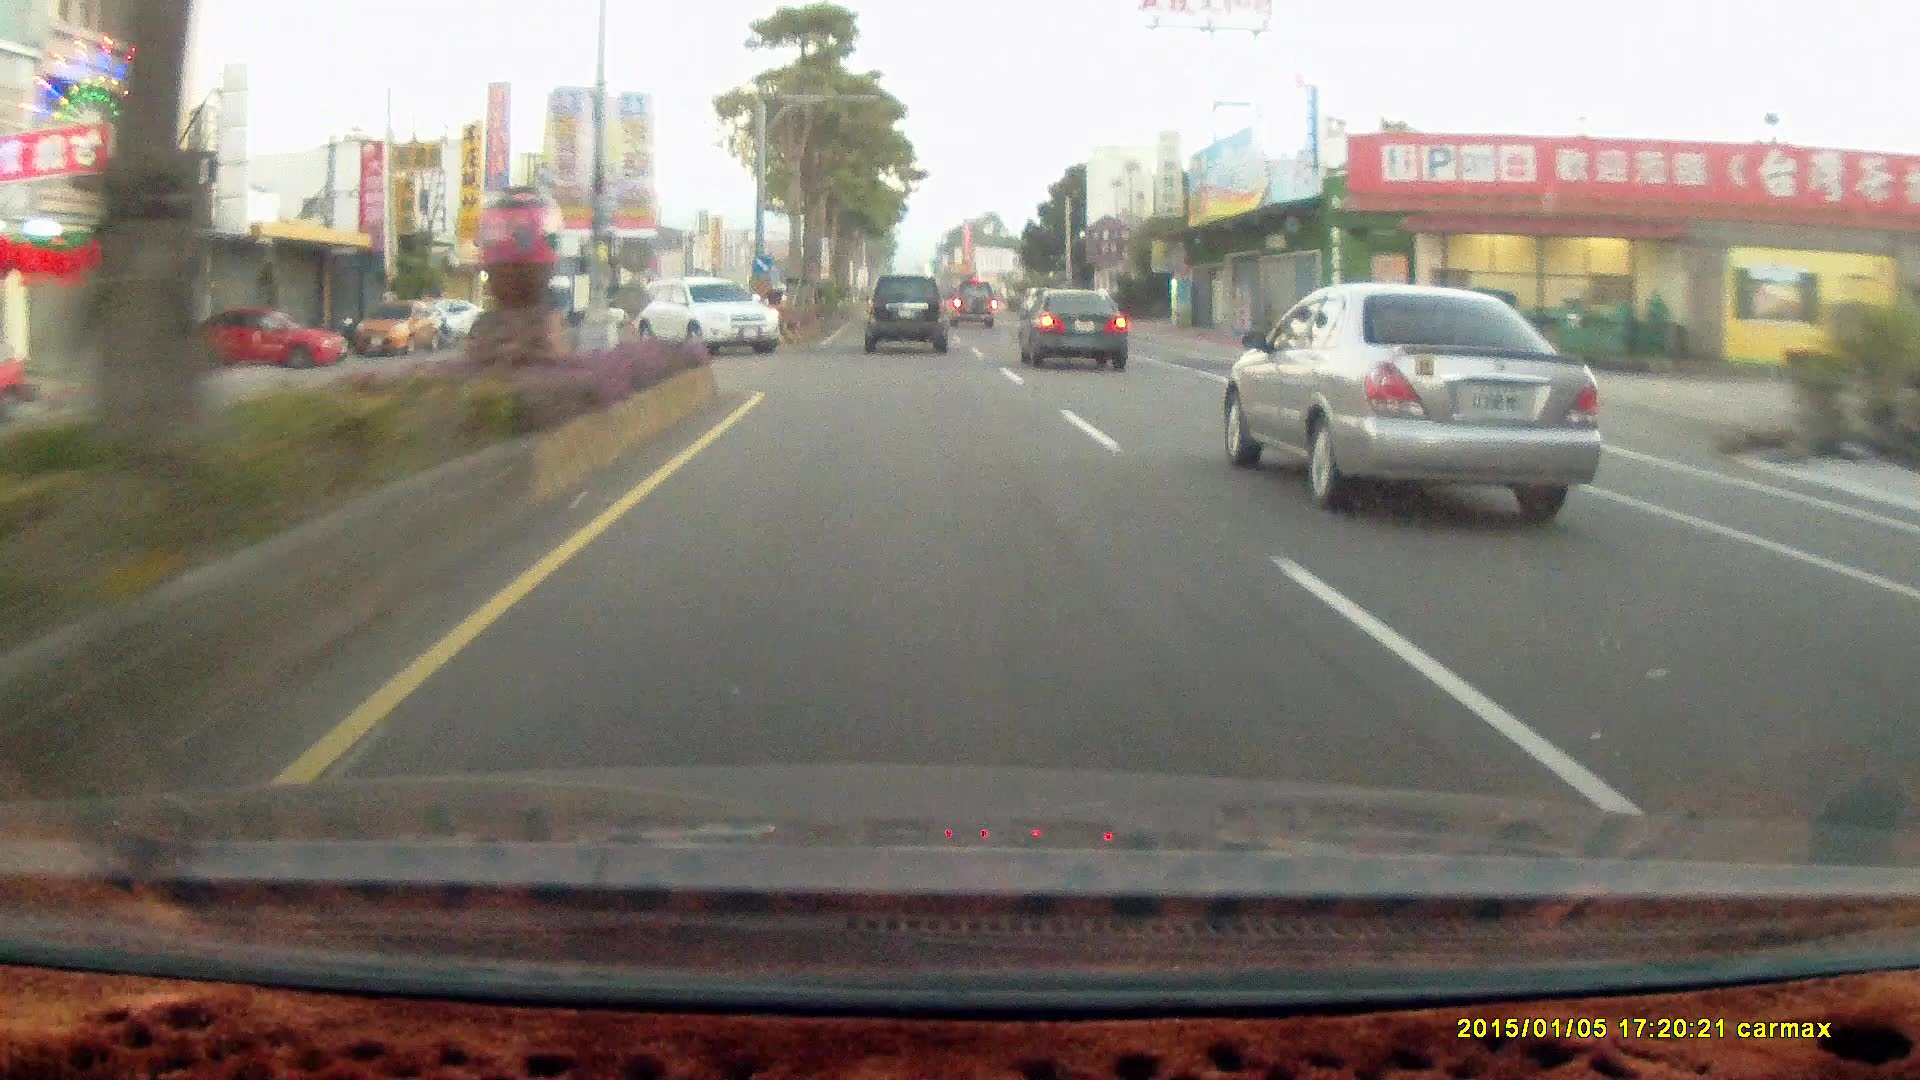vehicle: (1215, 284, 1611, 530), (630, 276, 781, 360), (647, 278, 785, 357), (177, 313, 348, 373), (179, 307, 345, 368), (1018, 287, 1131, 373), (1014, 286, 1126, 369), (348, 301, 465, 364), (866, 278, 955, 357), (862, 274, 945, 352), (349, 303, 438, 356), (404, 301, 491, 344), (945, 281, 998, 332)
